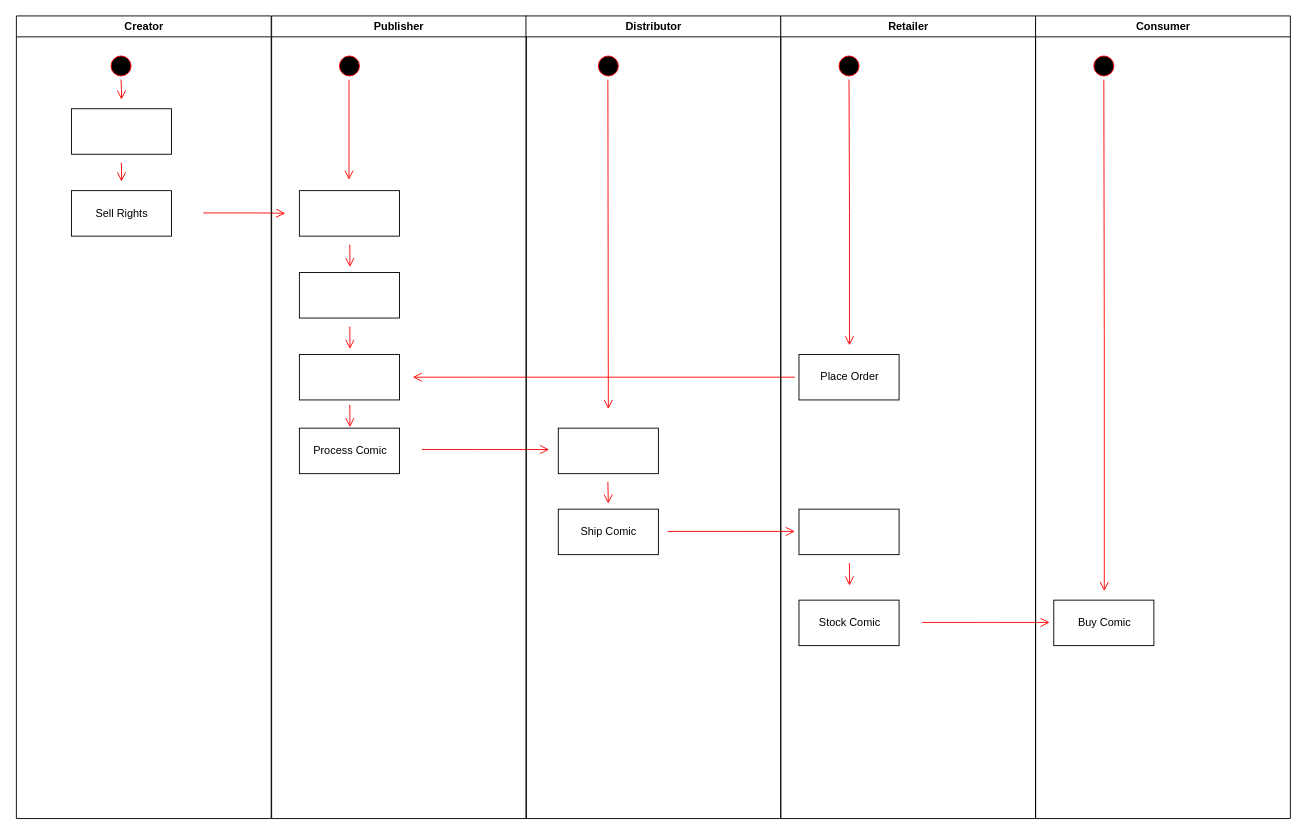
Image size: 1306x834. Some labels were removed from this diagram. The shapes that lost their labels are listed below. From the top down, each one's centre as x and y in pixels, then its label:
At point (121, 131): "Create Comic".
At point (348, 213): "Buy Rights".
At point (348, 295): "Print Comic".
At point (348, 377): "List Comic".
At point (607, 450): "Package Comic".
At point (848, 531): "Receive Comic".
